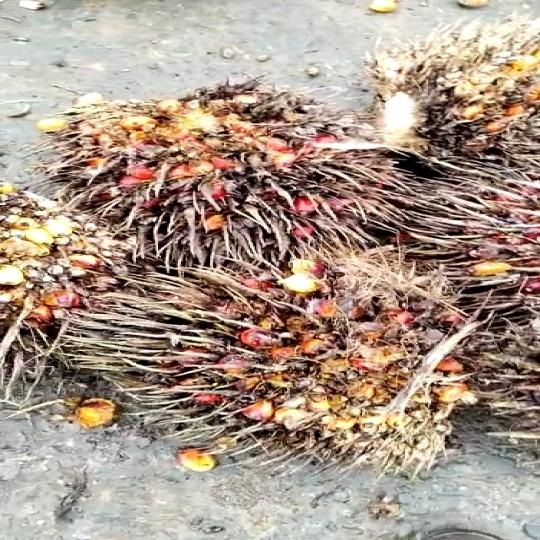terlalu masak: (56, 258, 485, 476), (46, 72, 418, 253)
